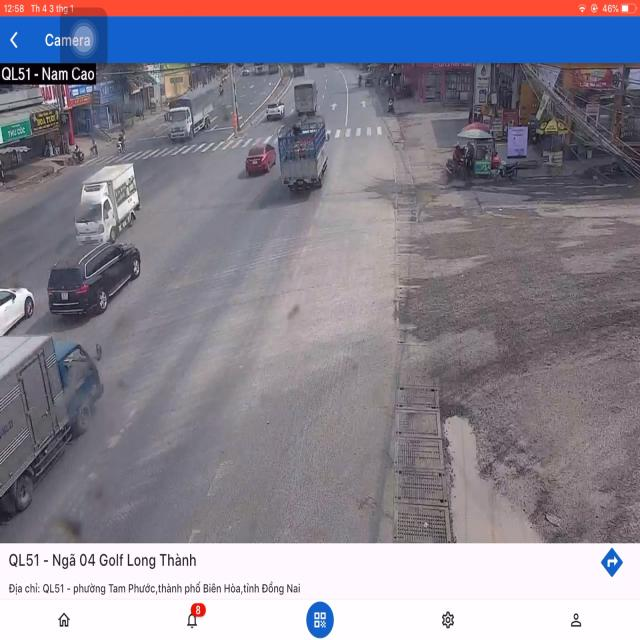car: (45, 239, 141, 318), (0, 286, 33, 343), (244, 140, 273, 178), (267, 100, 285, 120)
truck: (0, 335, 102, 509), (75, 164, 142, 242), (278, 112, 328, 189), (168, 88, 215, 146), (294, 81, 320, 116)
